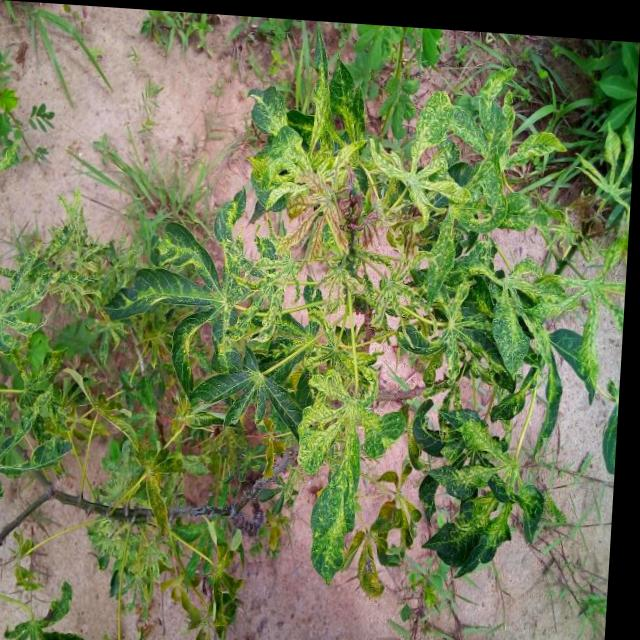Mosaico: (134, 216, 293, 372), (74, 372, 223, 519), (164, 321, 325, 456), (256, 69, 377, 229), (342, 131, 509, 224), (315, 363, 382, 581), (454, 404, 534, 564)
